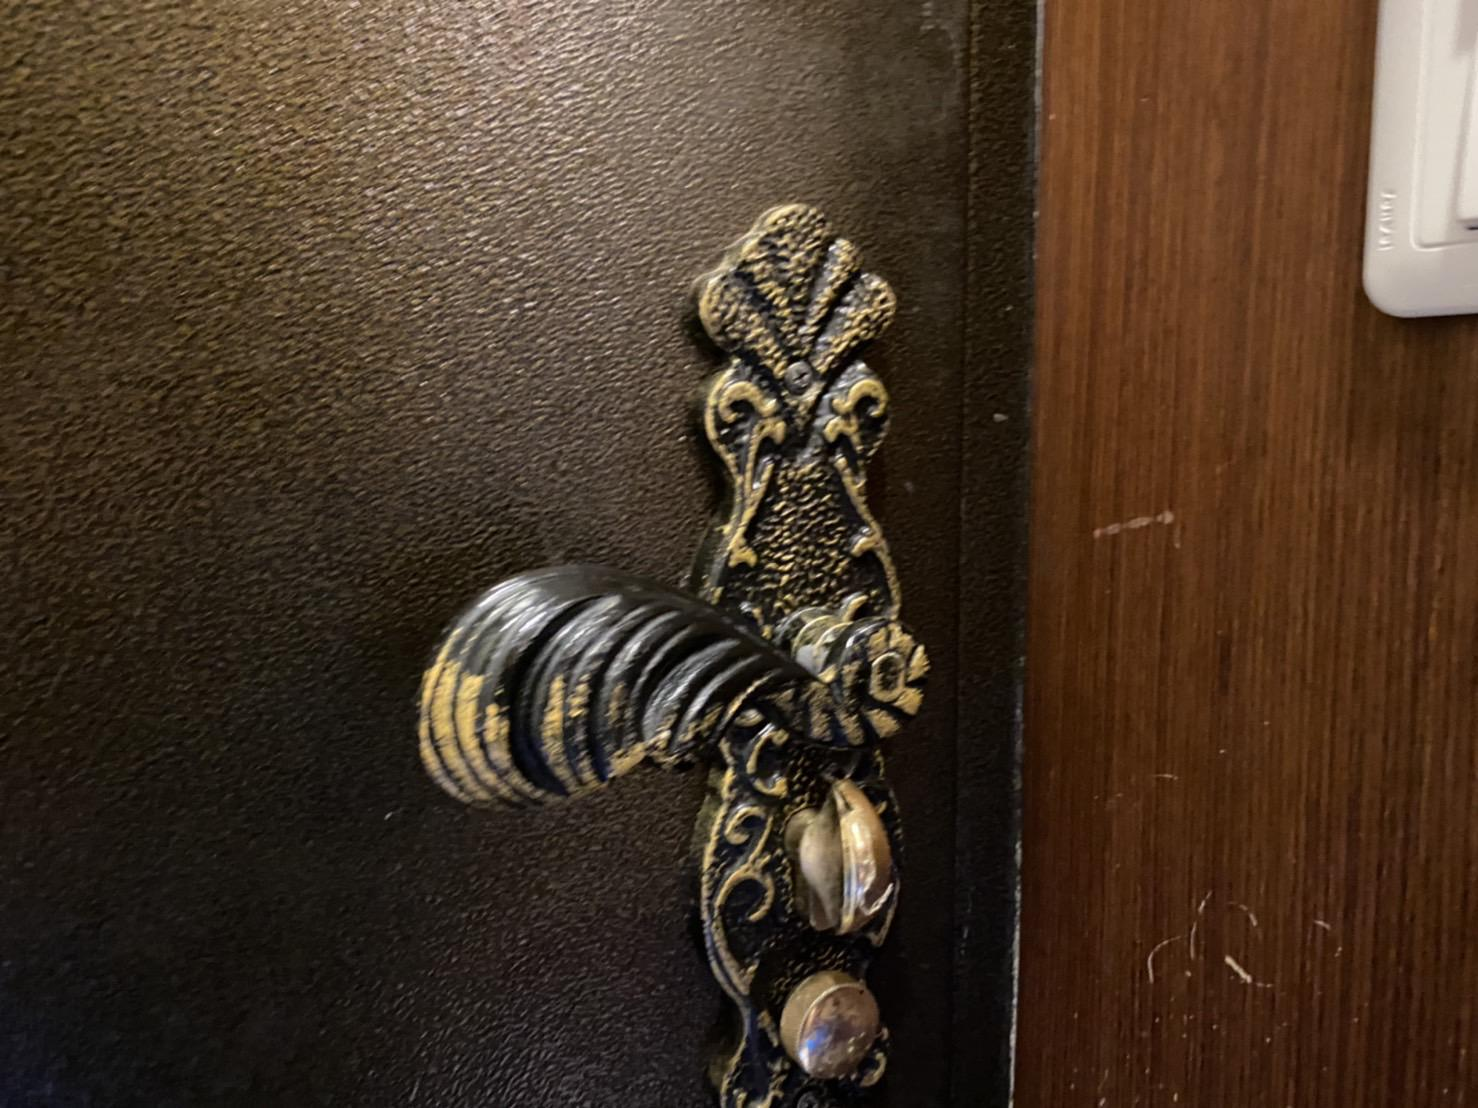doorhandle: (461, 178, 1045, 1092)
